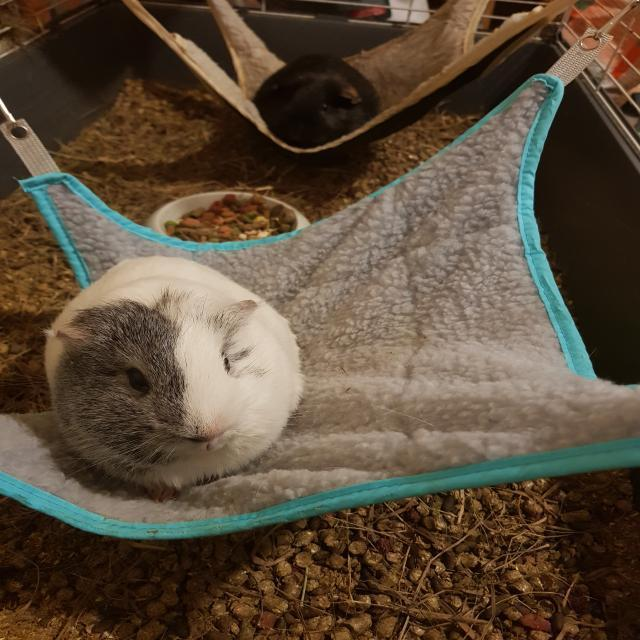Guinea Pig: (41, 253, 304, 500), (241, 49, 391, 138)
